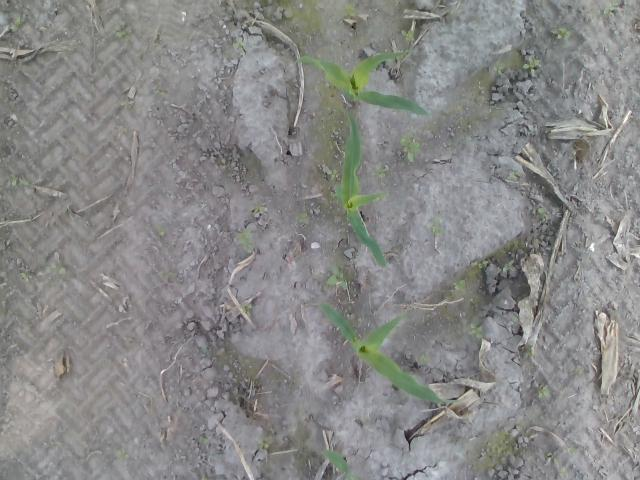Maize: (320, 302, 462, 408), (294, 46, 432, 117), (336, 102, 386, 269)
Weeds: (323, 446, 357, 480), (542, 448, 578, 480), (399, 134, 426, 164), (326, 264, 350, 290), (238, 226, 260, 252), (0, 11, 23, 32), (5, 174, 32, 190), (520, 55, 542, 74), (431, 214, 448, 238), (516, 414, 530, 437), (600, 0, 618, 17), (550, 25, 570, 40), (48, 260, 68, 274), (536, 384, 552, 401), (469, 322, 485, 338), (18, 270, 36, 284), (232, 38, 250, 51), (368, 164, 386, 177), (114, 446, 130, 460), (152, 222, 168, 236), (504, 168, 520, 182), (498, 260, 514, 274), (471, 258, 489, 270), (492, 61, 506, 76), (260, 434, 274, 448), (416, 350, 430, 364), (114, 23, 127, 38), (240, 301, 253, 315), (344, 2, 357, 16), (453, 278, 466, 291), (402, 29, 416, 41), (240, 358, 253, 370), (327, 168, 338, 182), (296, 212, 306, 226), (197, 434, 210, 444), (526, 344, 536, 356), (536, 206, 546, 216), (120, 96, 128, 108), (155, 88, 167, 96), (576, 366, 584, 377), (255, 202, 262, 213)
